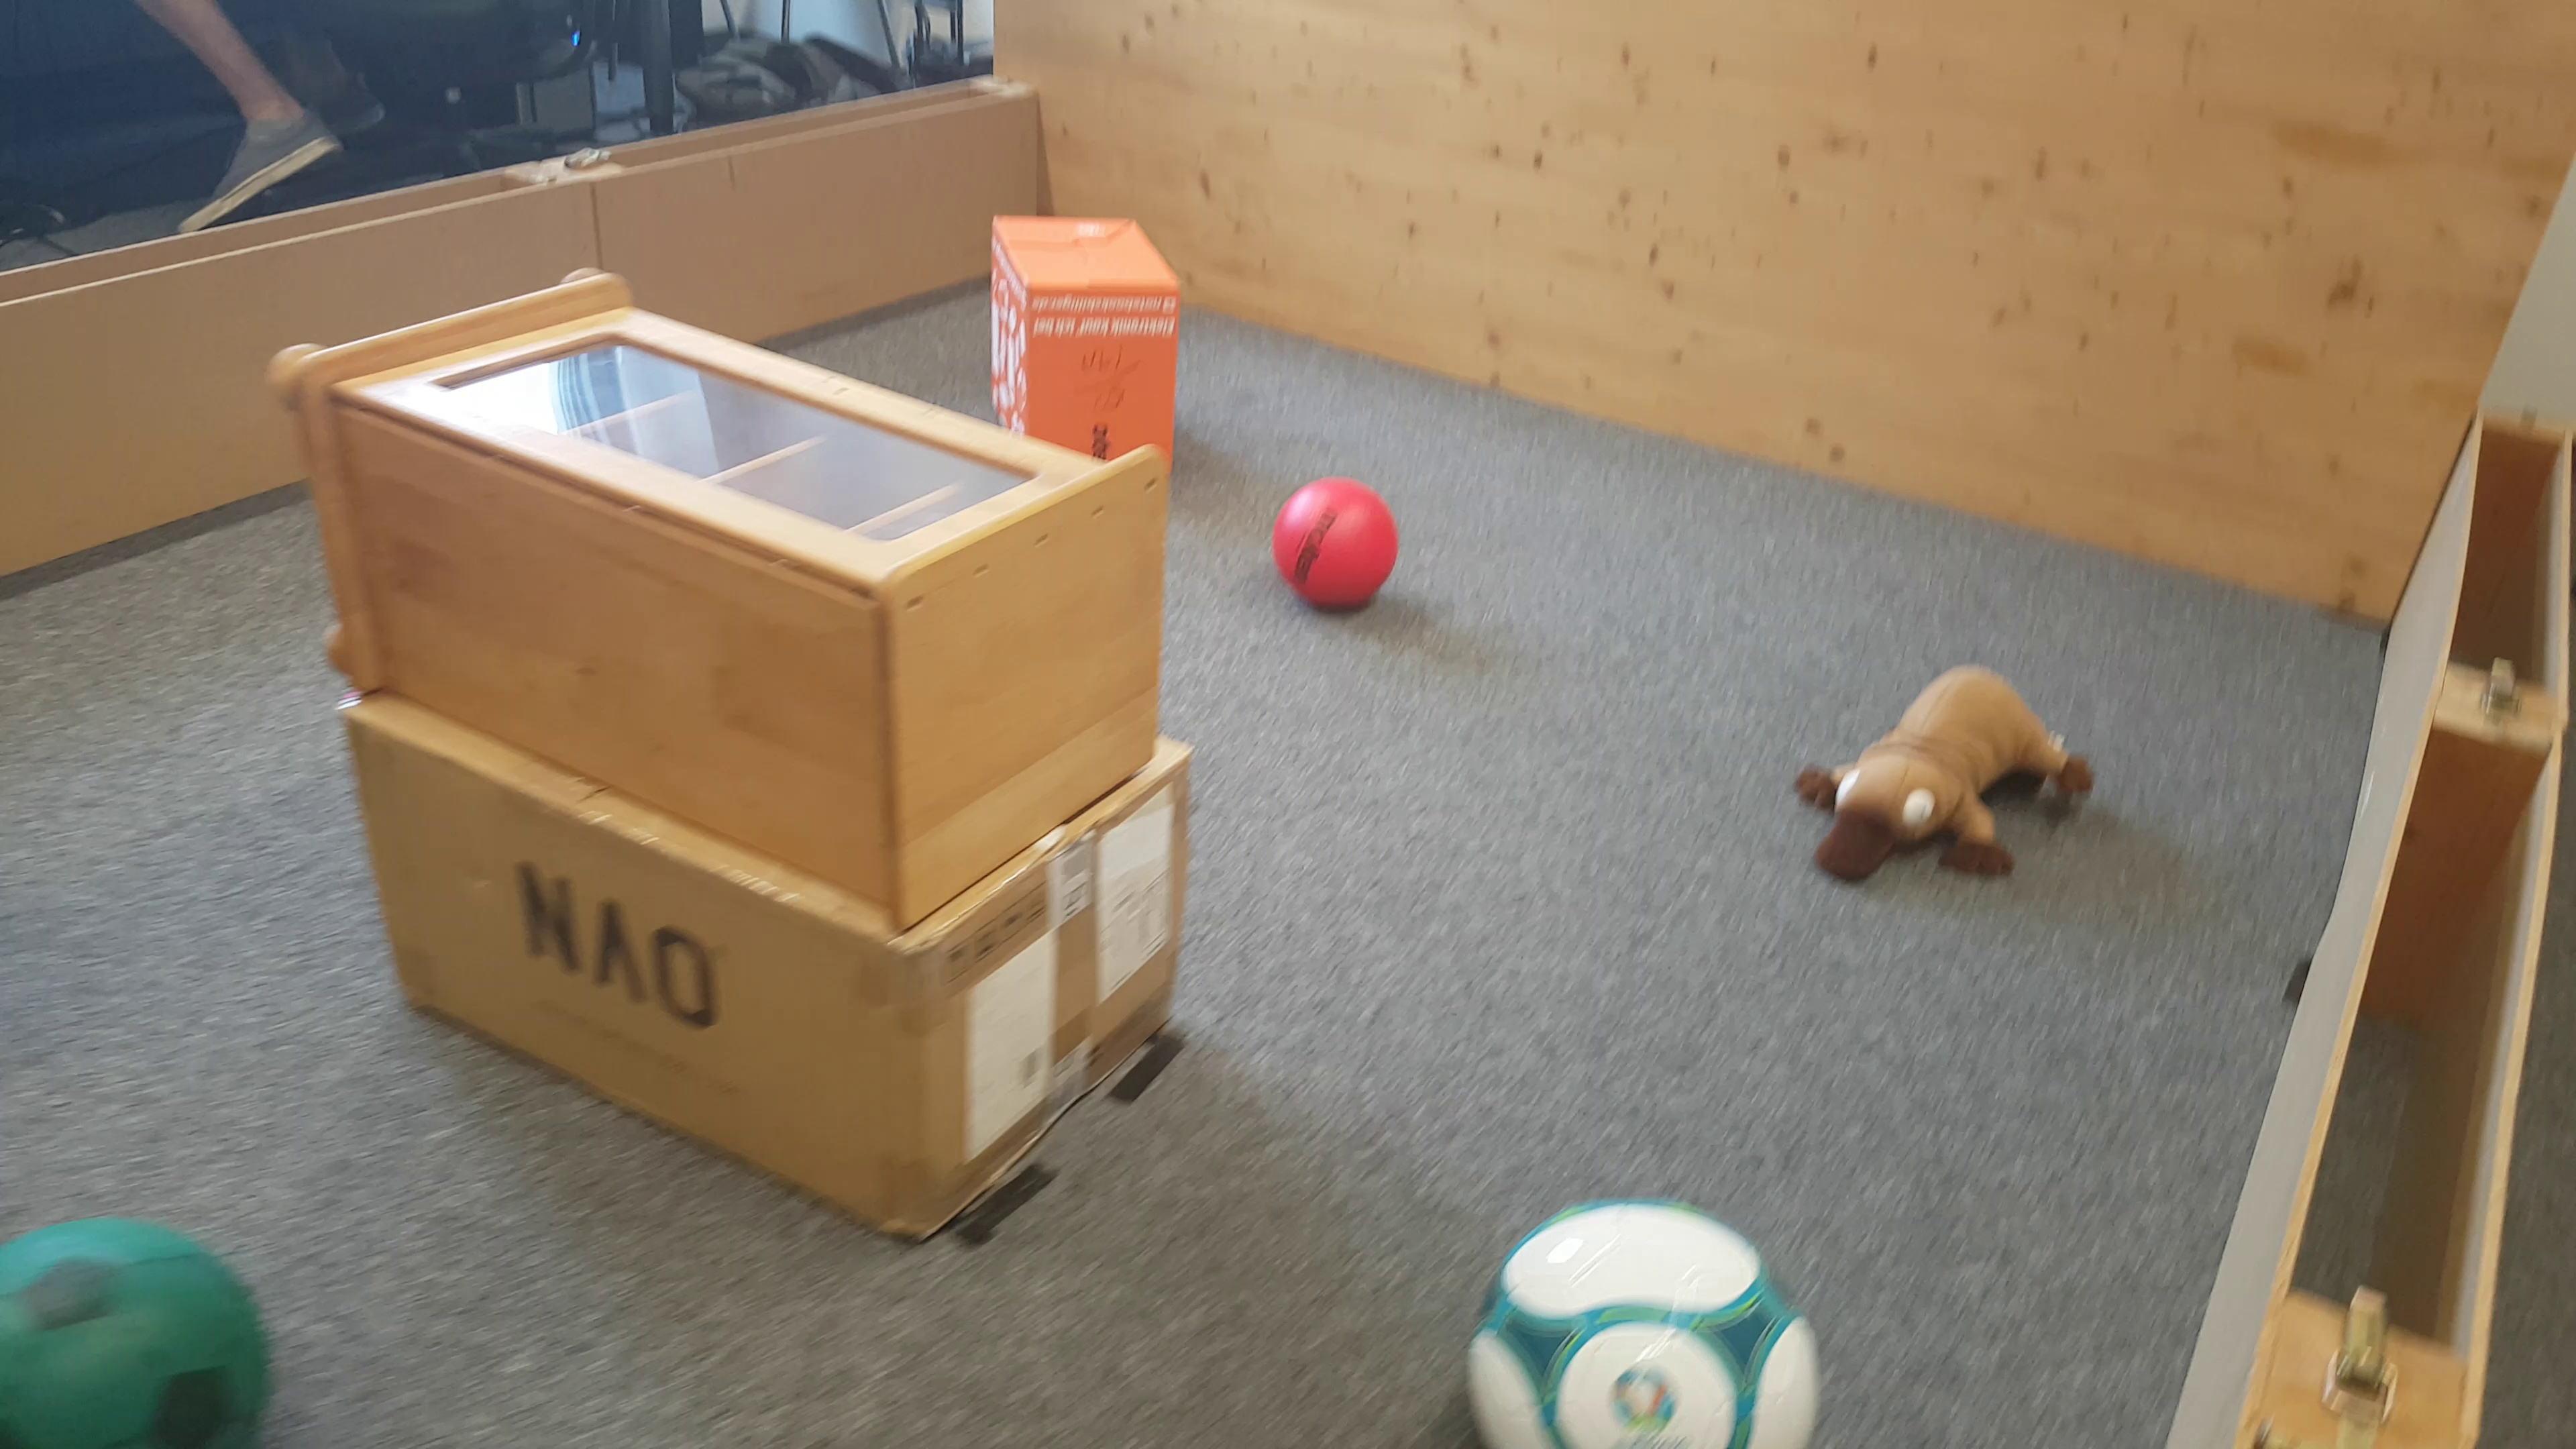grasp: (1787, 662, 2098, 916)
kick: (1463, 1196, 1824, 1449), (4, 1219, 272, 1449), (1277, 474, 1399, 605)
push: (989, 211, 1182, 430)
